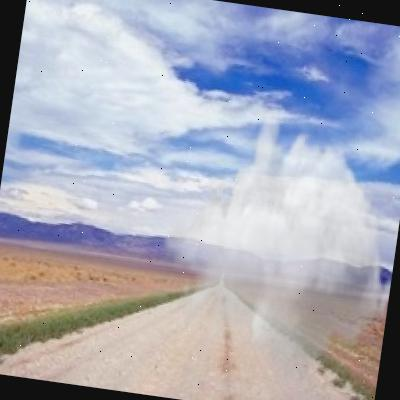smoke: (204, 140, 400, 364)
